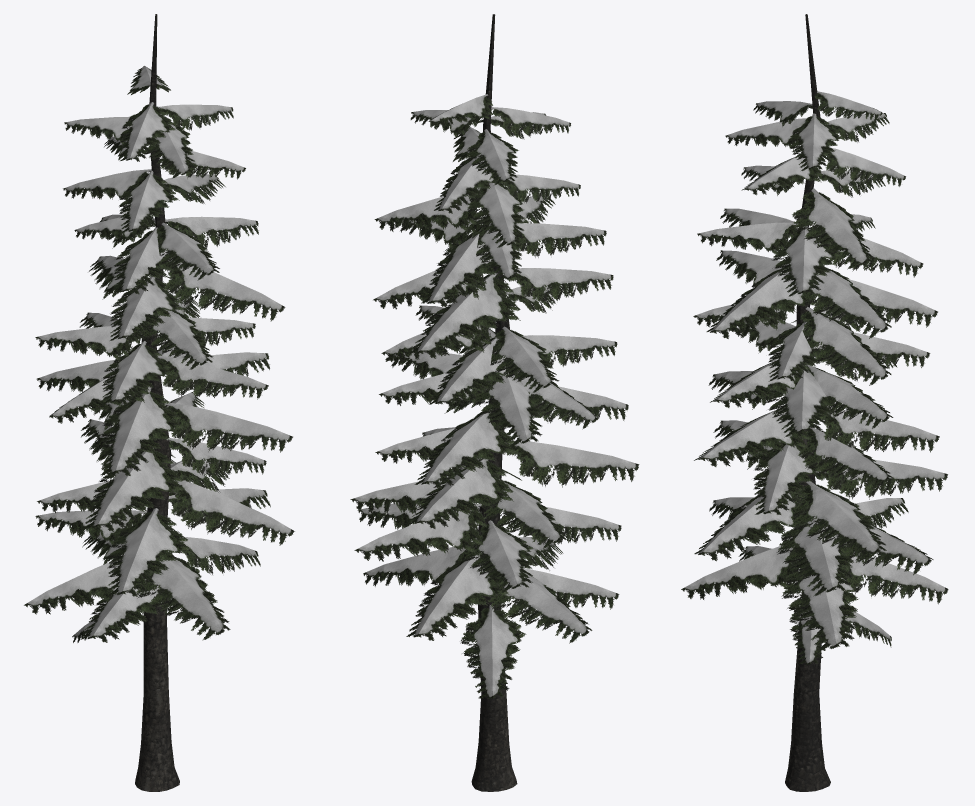
The model's file is tree_4.glb.
The picture shows the model from 3 angles, left to right: view 1: azimuth 30°, elevation 25°; view 2: azimuth 150°, elevation 25°; view 3: azimuth 270°, elevation 25°; orthographic projection.
Parts seen in each view (by area): view 1: tree_4; view 2: tree_4; view 3: tree_4.
Part boxes in pixels (x1=…): tree_4: x1=24, y1=14, x2=294, y2=791; tree_4: x1=350, y1=14, x2=639, y2=791; tree_4: x1=681, y1=14, x2=948, y2=791.
Size of the model in its own units: 1.7 by 4.96 by 1.69.
2 materials, 2 textured.
